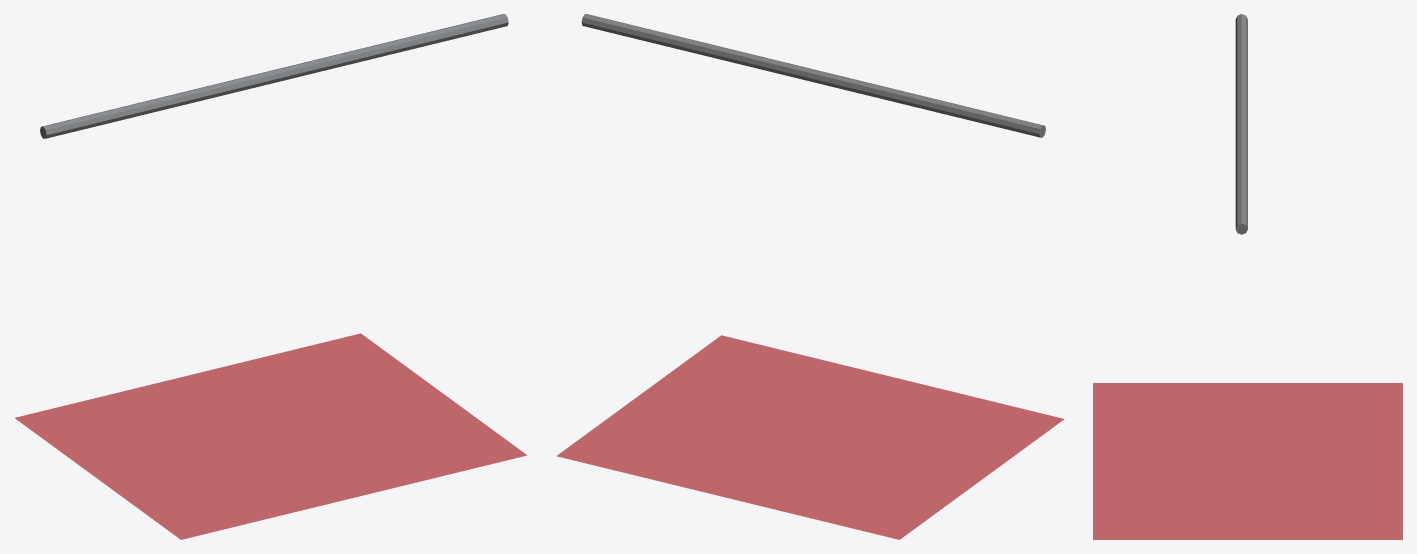
The model's file is medieval_banner.glb.
The picture shows the model from 3 angles, left to right: view 1: azimuth 30°, elevation 25°; view 2: azimuth 150°, elevation 25°; view 3: azimuth 270°, elevation 25°; orthographic projection. The views are drawn at different scales.
Visible parts, largest first — view 1: Banner_Cloth, Cylinder; view 2: Banner_Cloth, Cylinder; view 3: Banner_Cloth, Cylinder.
Part boxes in pixels (x1,y1,x2,y2): Banner_Cloth: (15,333,527,539); Cylinder: (40,14,508,138); Banner_Cloth: (556,335,1064,539); Cylinder: (581,14,1045,137); Banner_Cloth: (1093,383,1402,539); Cylinder: (1235,14,1247,234).
Bounding box in the file's own units: 1.6 × 1.22 × 1.
